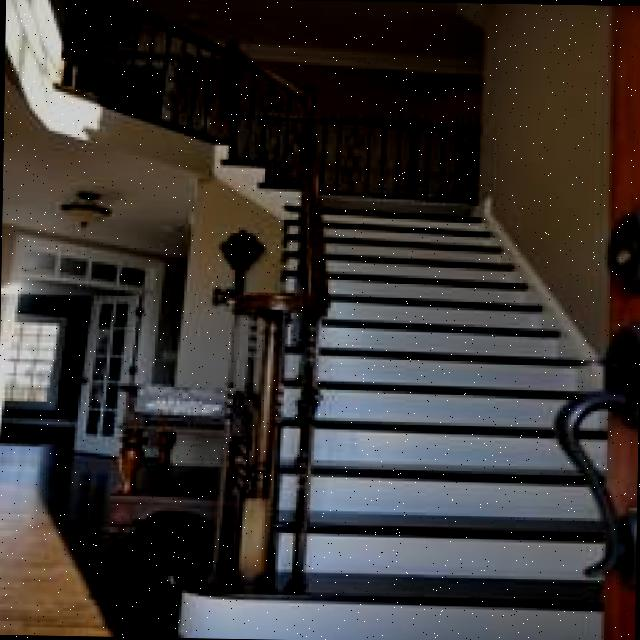stairs: (186, 79, 631, 640)
